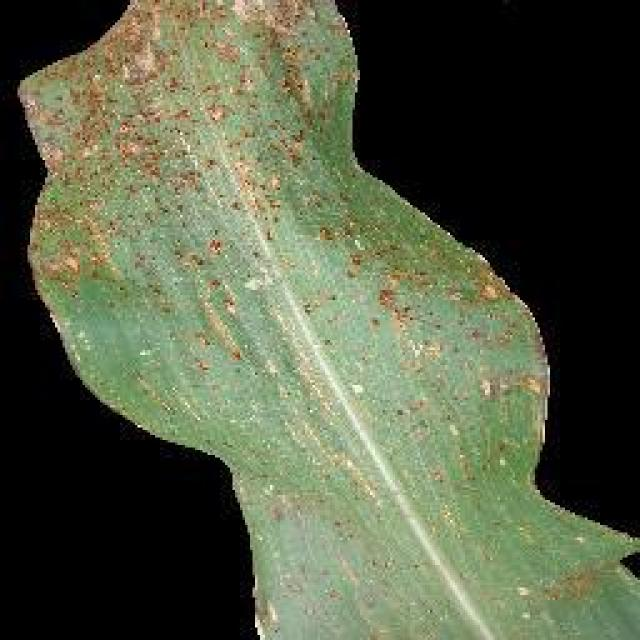Corn Common Rust: (185, 145, 502, 473)
